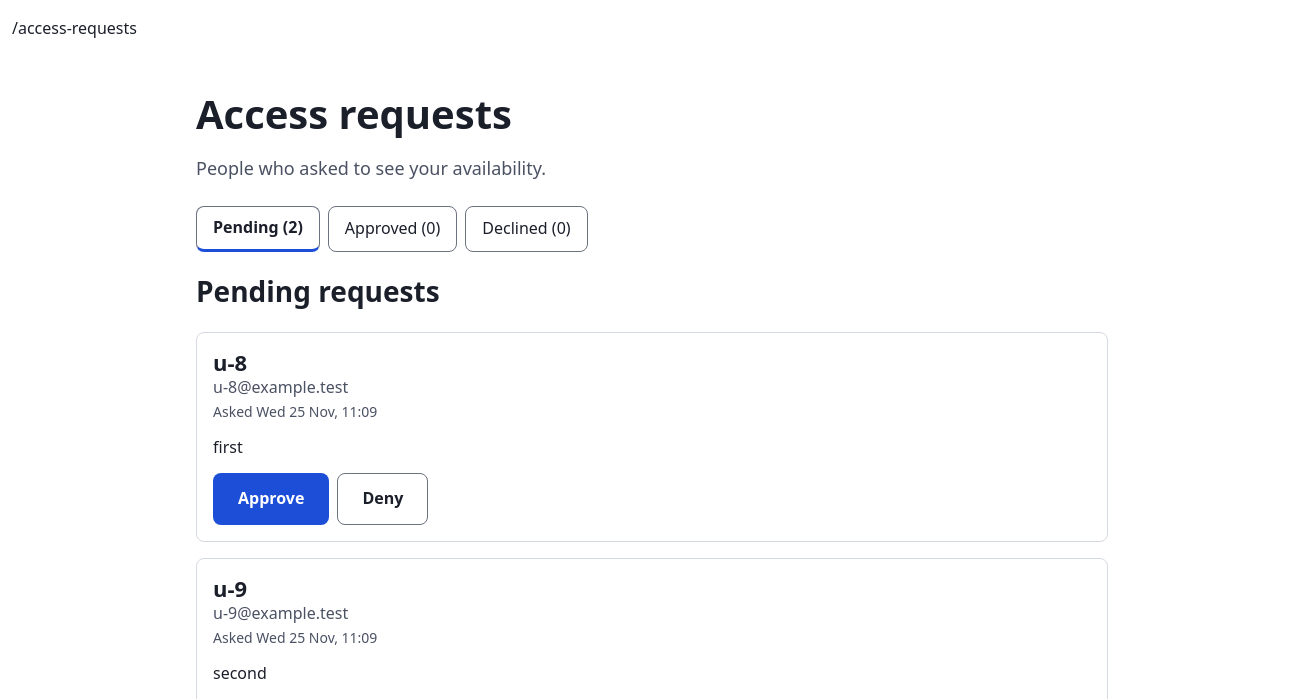
Scenario: AccessRequestsPage › approves a request and moves focus on
Click the button "Approve " below "u-8@example.test" at [271, 499], box x1=213 y1=473 x2=329 y2=525
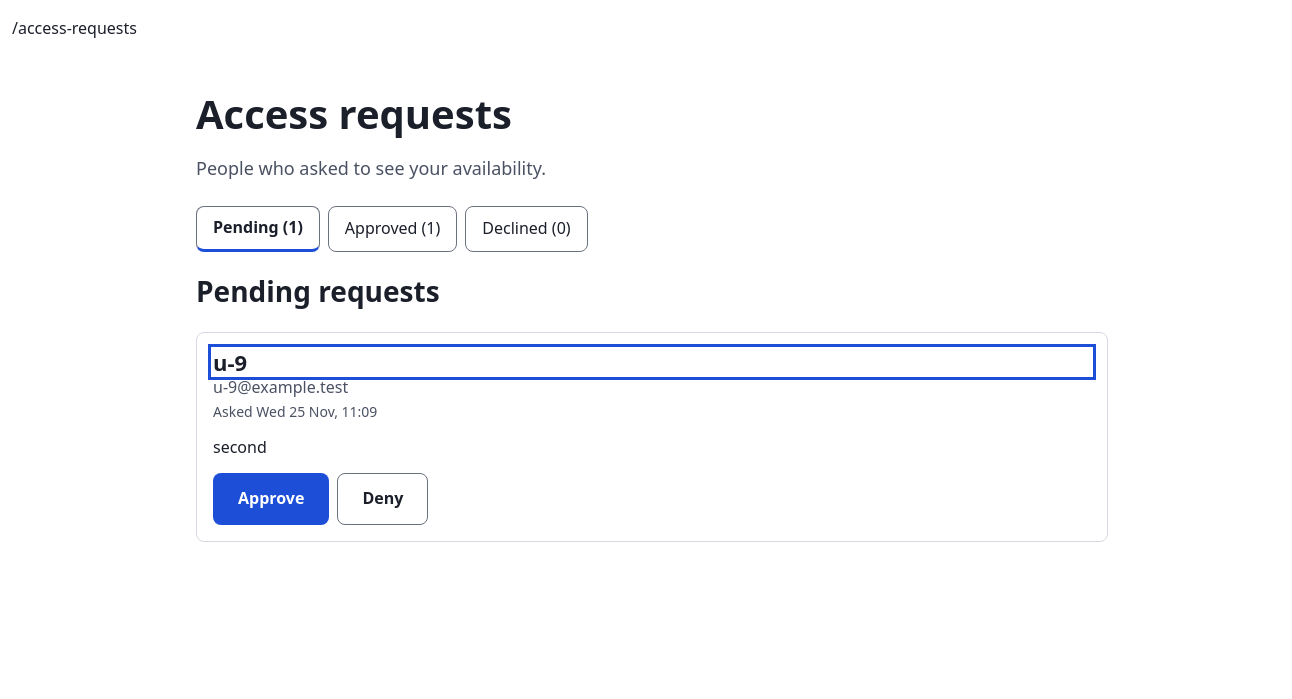
Expected: the number of buttons "Approve " is 1, x1=213 y1=473 x2=329 y2=525
